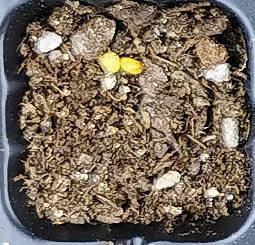pepper seed: (46, 17, 192, 93), (38, 13, 160, 89)
